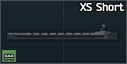M870 XS SHOTRAIL rail with Ghost ring: (0, 0, 127, 64)
